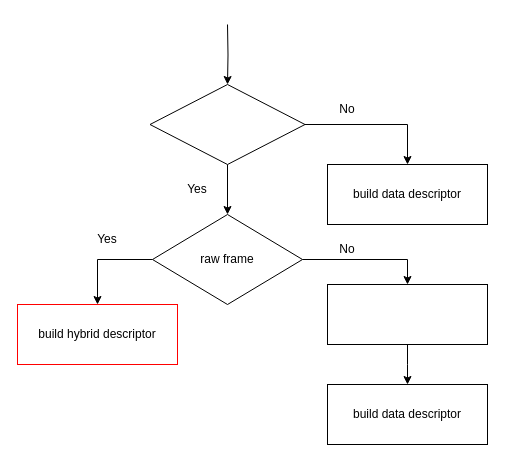
The diagram is 505 pixels wide and 462 high, and some of its shapes have lost their labels. Each missing label, with the box of its shape:
build RFS offload descriptor: (326, 284, 488, 344)
RFS offload enabled: (149, 84, 305, 164)
